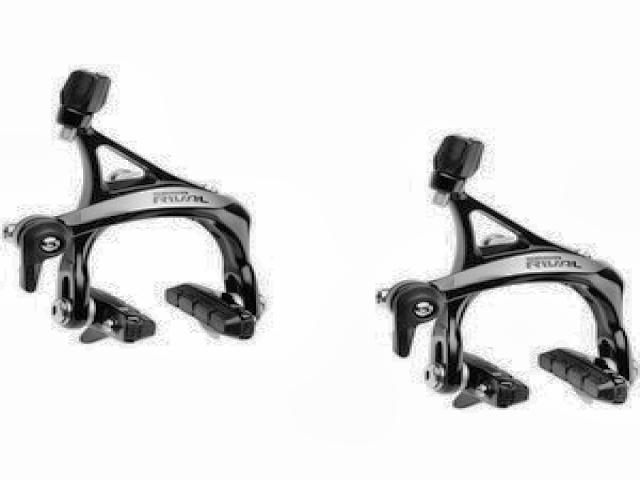rim_brake: (2, 67, 268, 347), (377, 132, 639, 410)
